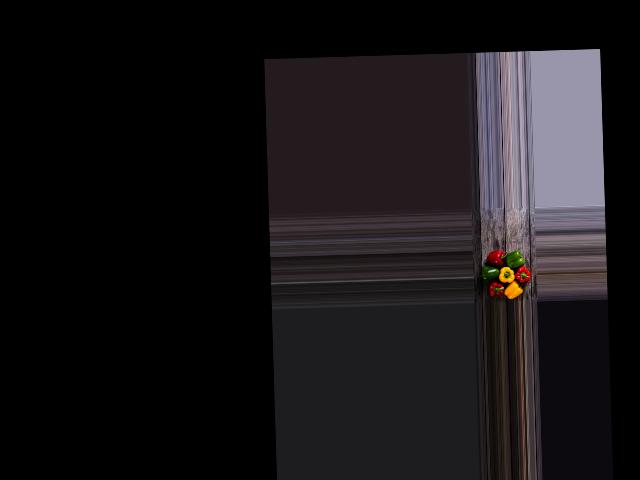bell_pepper: (488, 281, 507, 301)
